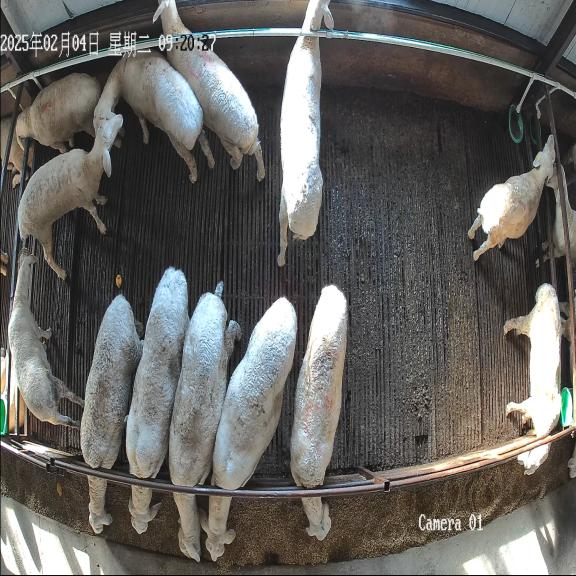drinking: (15, 74, 102, 153)
eating: (199, 297, 297, 561), (169, 281, 241, 561), (126, 266, 188, 534), (80, 294, 143, 534), (291, 284, 347, 540), (504, 283, 563, 475)
stand: (153, 0, 265, 181), (18, 113, 123, 280), (94, 52, 214, 182), (277, 0, 333, 266), (8, 248, 84, 426), (468, 135, 555, 260)
